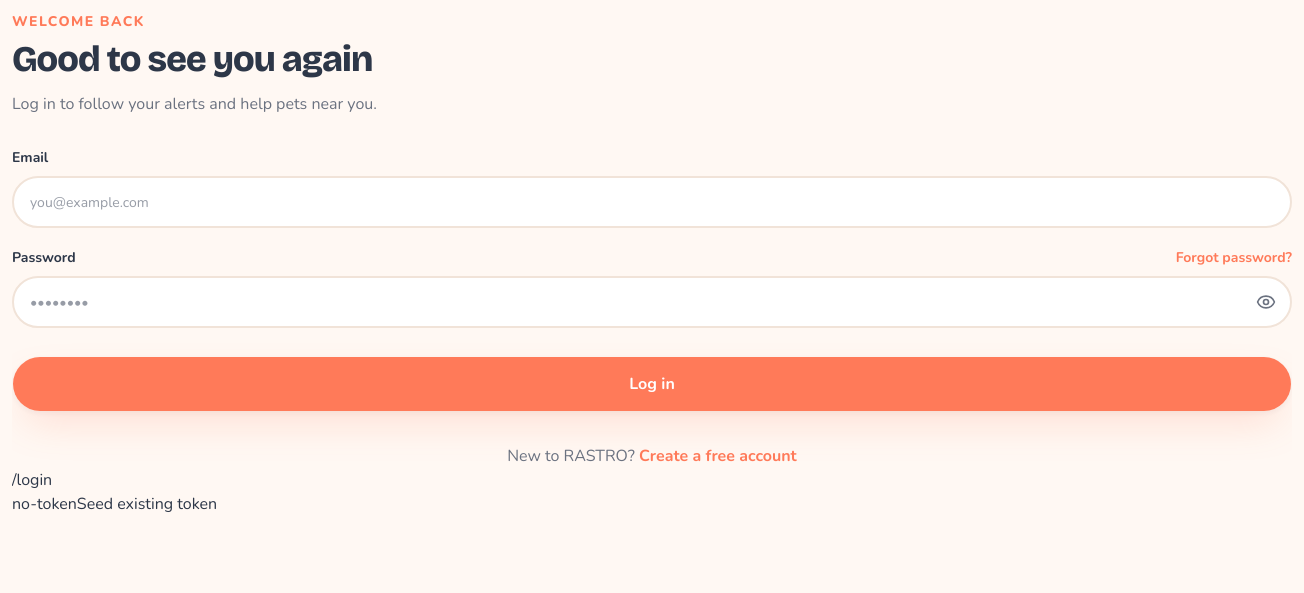
Scenario: LoginForm › shows an accessible loading state and prevents duplicate submissions
Type "person@example.com" into the field labelled "Email" at (652, 202), box [12,176,1292,228]
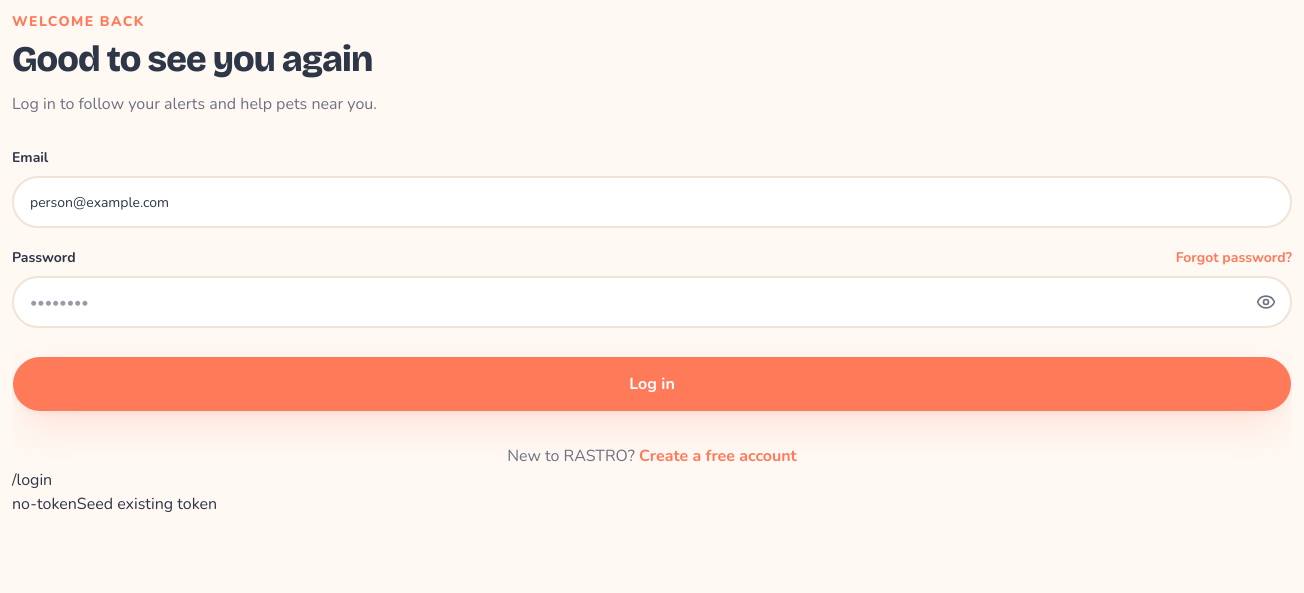
Type "password" into the password field labelled "Password" at (652, 302), box [12,276,1292,328]
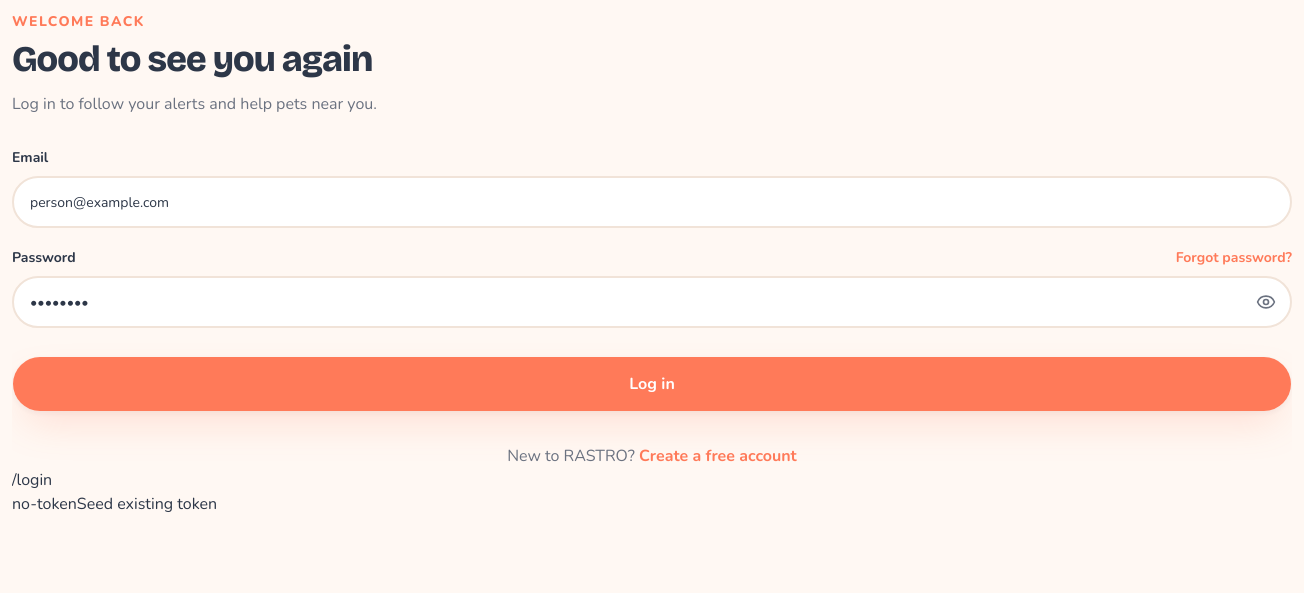
Submit the form, box [12,148,1292,412]
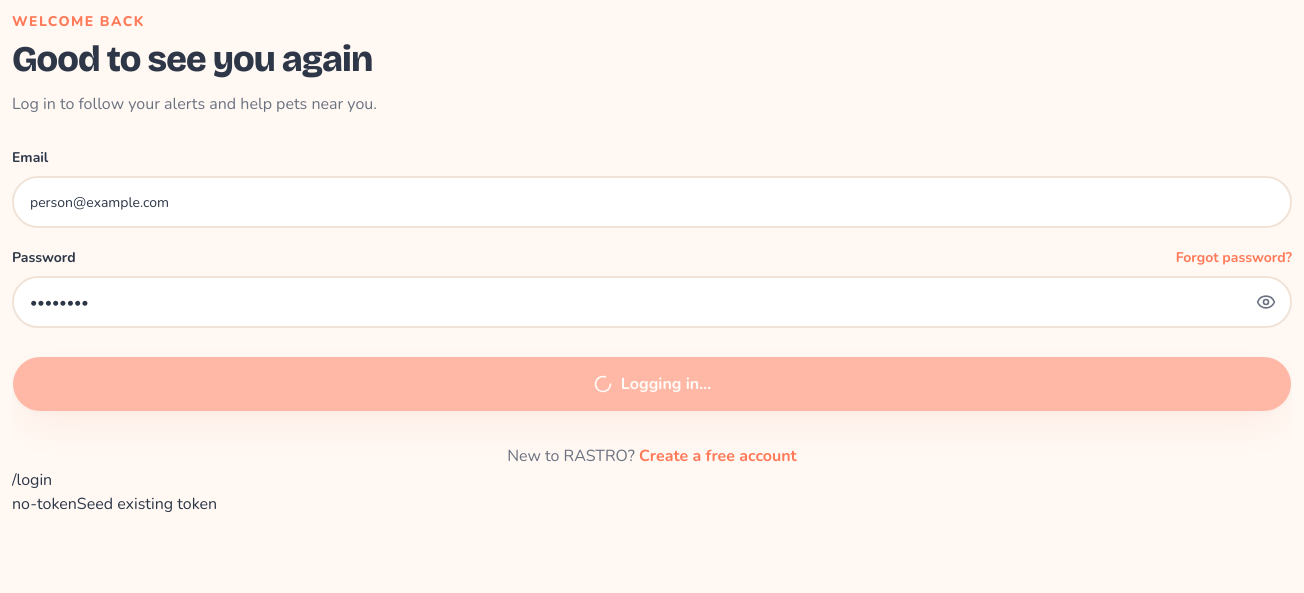
Expected: the button "Logging in…" is disabled, [12,356,1292,412]
Submit the form, box [12,148,1292,412]
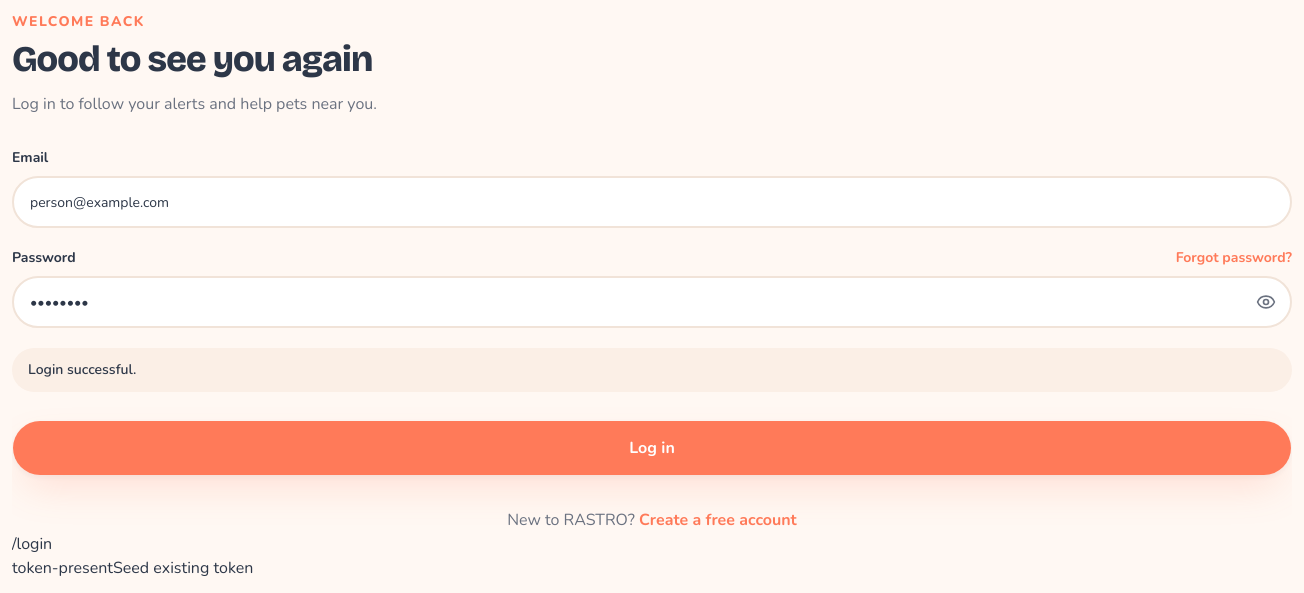
Expected: the message reads "Login successful.", [28,360,136,379]
